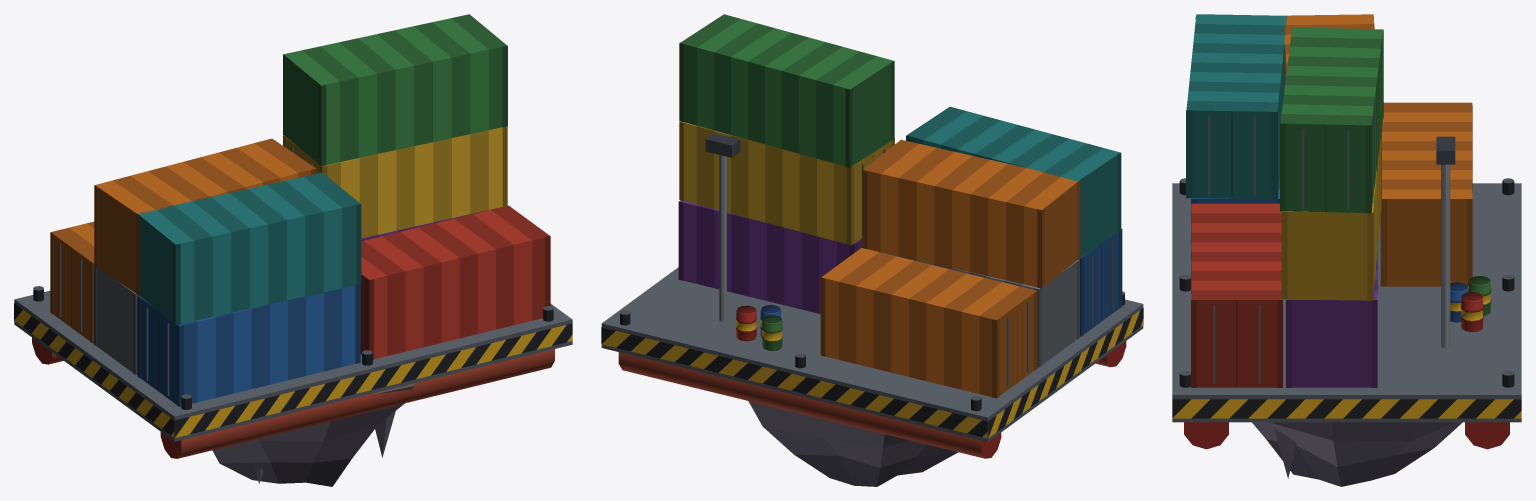
File: container_island.glb
3 renders of one model, left to right at view 1: azimuth 30°, elevation 25°; view 2: azimuth 150°, elevation 25°; view 3: azimuth 270°, elevation 25°, orthographic. The views are drawn at different scales.
Parts seen in each view (by area): view 1: Containers, Platform; view 2: Containers, Platform; view 3: Containers, Platform.
Boxes of the visible parts, x1=… form: Containers: x1=50, y1=14, x2=550, y2=406; Platform: x1=14, y1=286, x2=572, y2=486; Containers: x1=678, y1=14, x2=1122, y2=398; Platform: x1=601, y1=267, x2=1143, y2=486; Containers: x1=1186, y1=14, x2=1491, y2=387; Platform: x1=1172, y1=178, x2=1521, y2=486.
Size of the model in its own units: 13.22 by 12.82 by 9.22.
